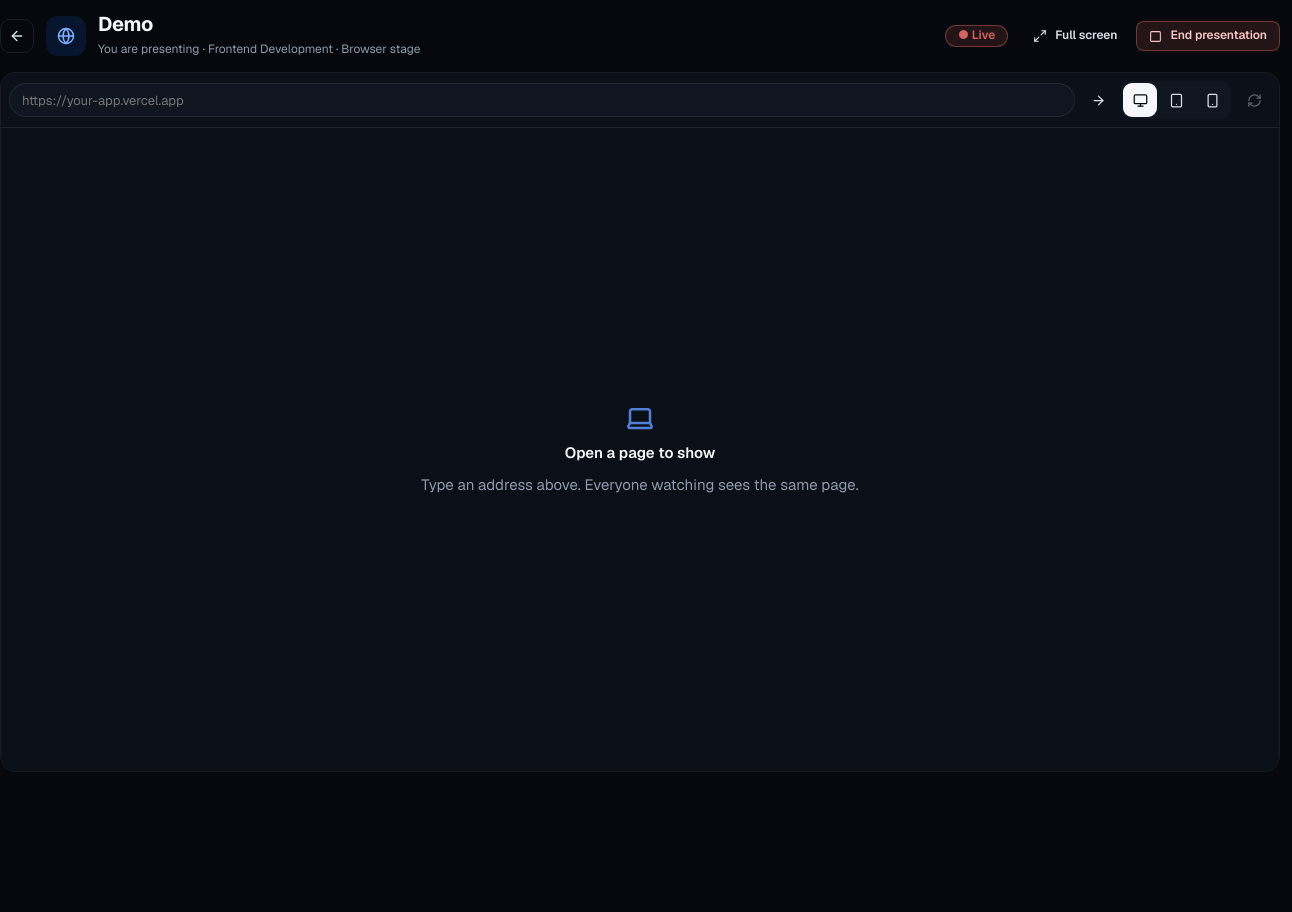
Test case: browser stage › refuses unsafe addresses and sends nothing
The width and height of the screenshot is (1292, 912).
Step 1. Type "javascript:alert(1)" into the field named "Address" → [542, 100], box [9,83,1075,117]
Then press Enter
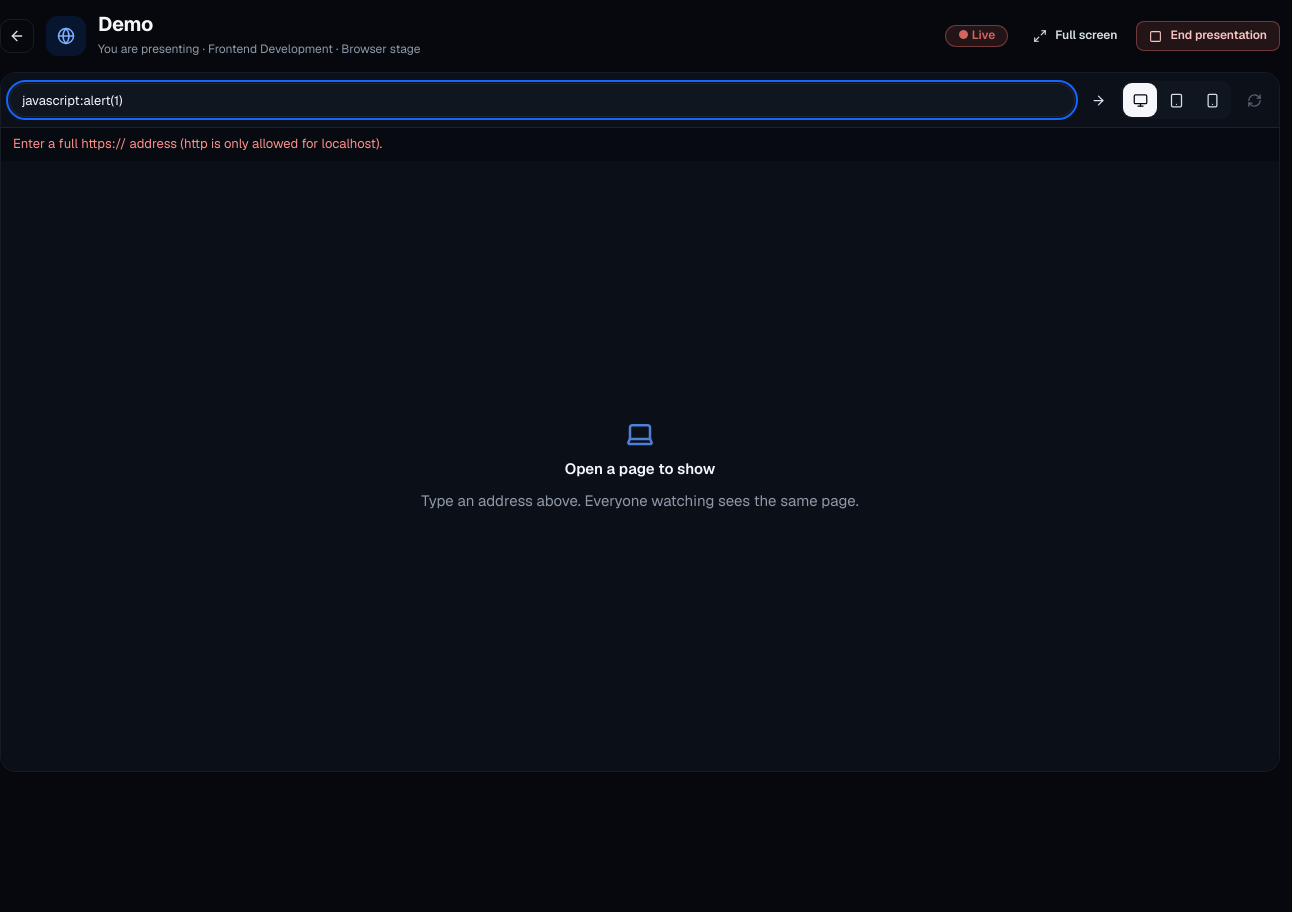
Expected: the message "Enter a full https:// address (http is only allowed for localhost)." is shown, [13,135,382,152]
